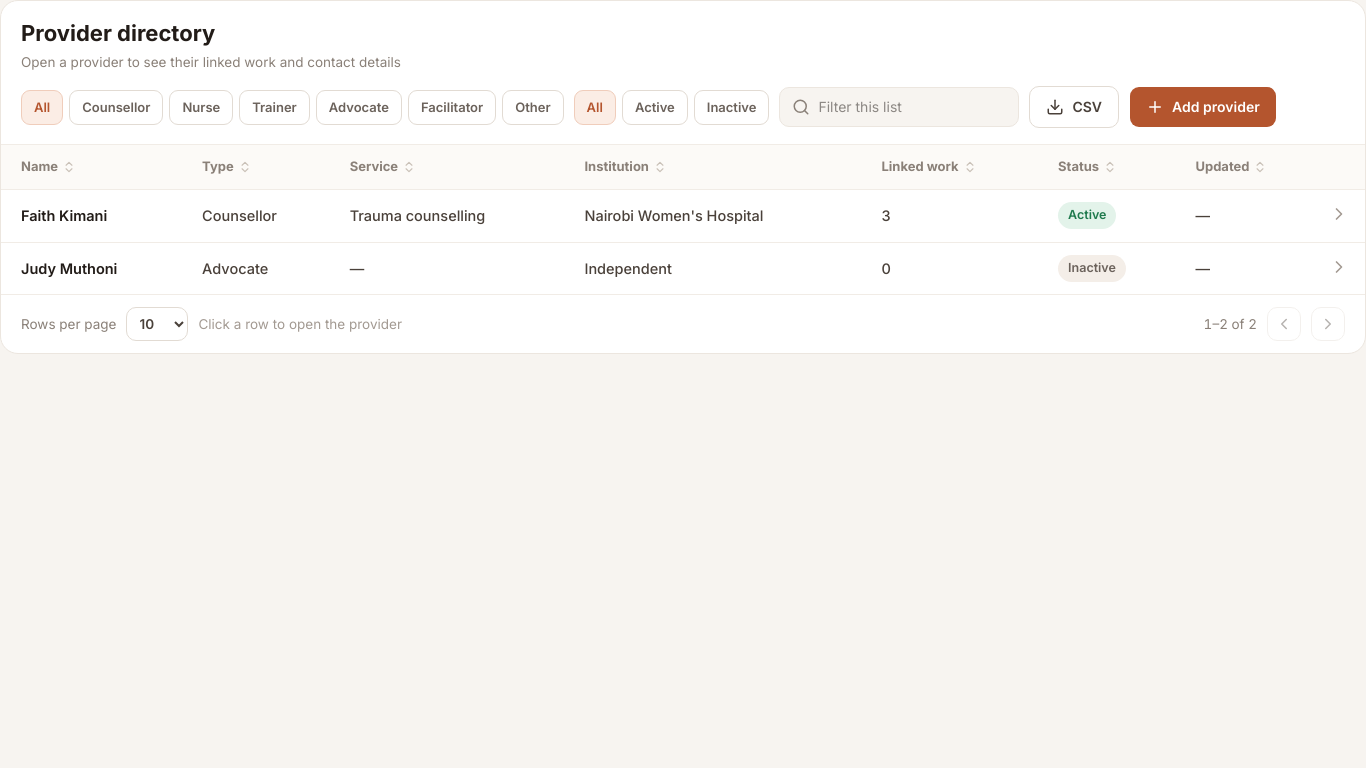
Test case: provider directory › opens the drawer with contacts and linked work
The image size is (1366, 768).
Click the button named "Open Faith Kimani".
click(1339, 214)  # box x1=1327 y1=202 x2=1351 y2=226
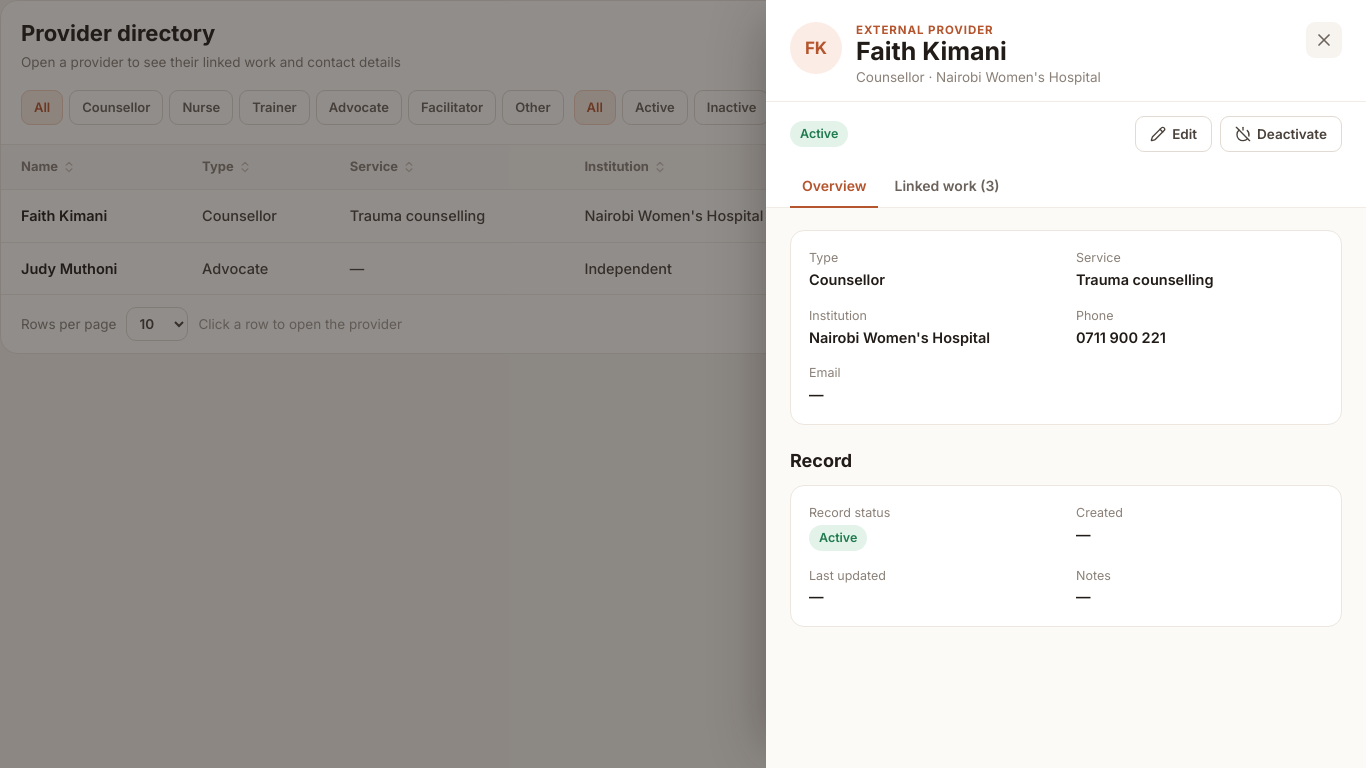
Check: the dialog shows "External provider", box x1=856 y1=23 x2=994 y2=37
Check: the dialog shows "Counsellor · Nairobi Women's Hospital", box x1=856 y1=69 x2=1101 y2=85
Check: the dialog shows "0711 900 221", box x1=1076 y1=329 x2=1166 y2=346
Click the tab "Linked work (3)".
click(947, 187)  # box x1=882 y1=166 x2=1012 y2=208
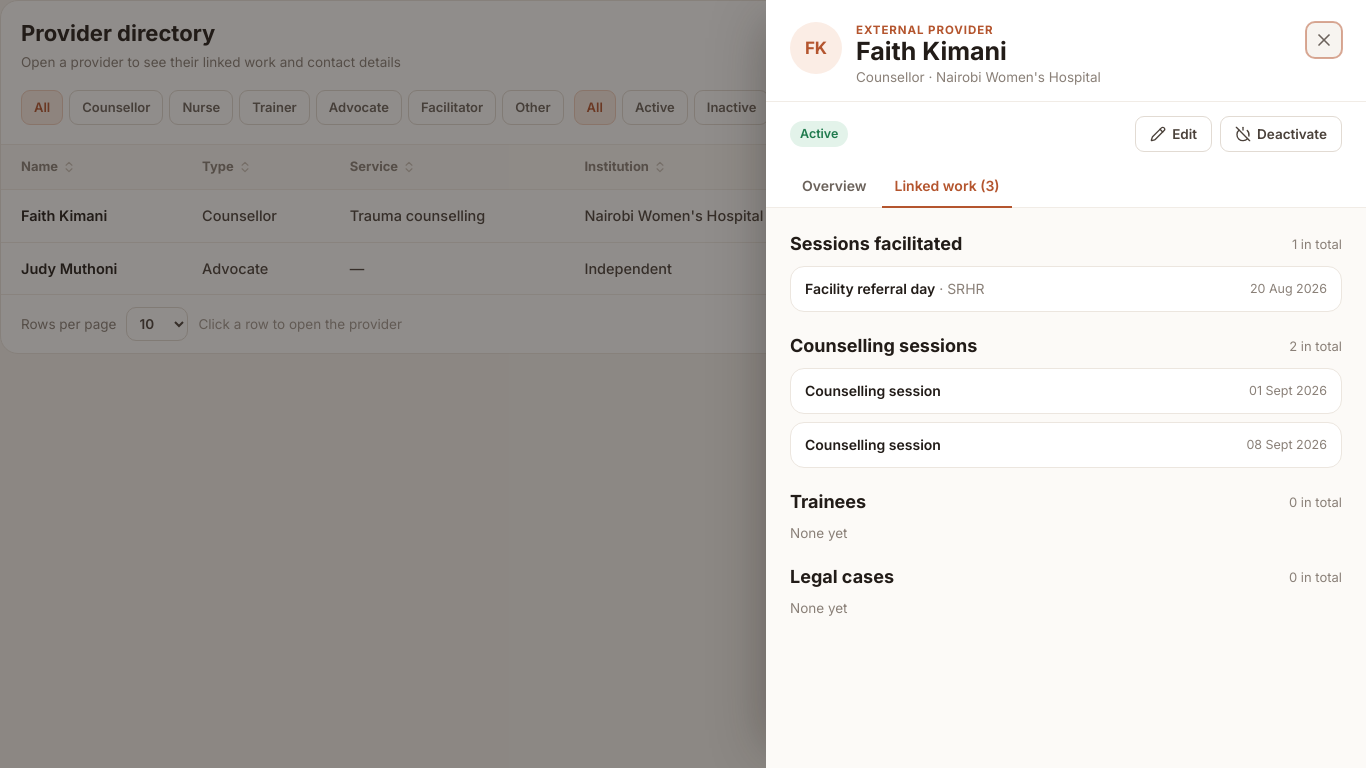
Check: the dialog shows "Facility referral day", box x1=805 y1=280 x2=935 y2=297
